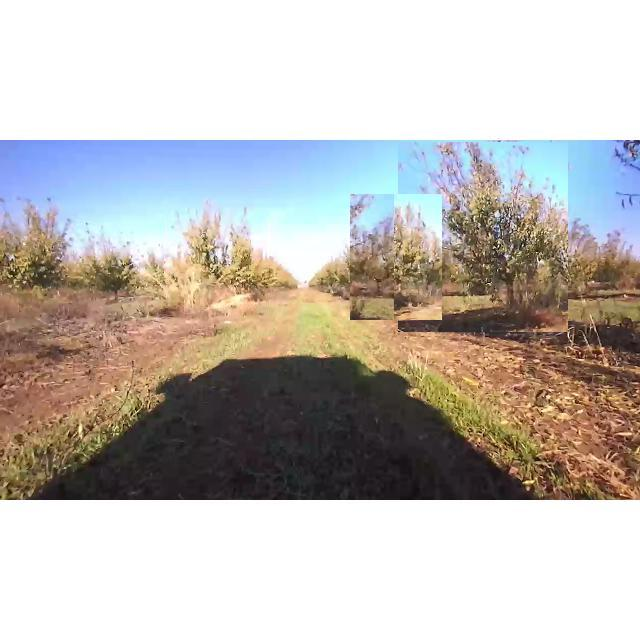direk: (398, 142, 568, 332), (166, 188, 266, 308), (350, 194, 442, 320)
